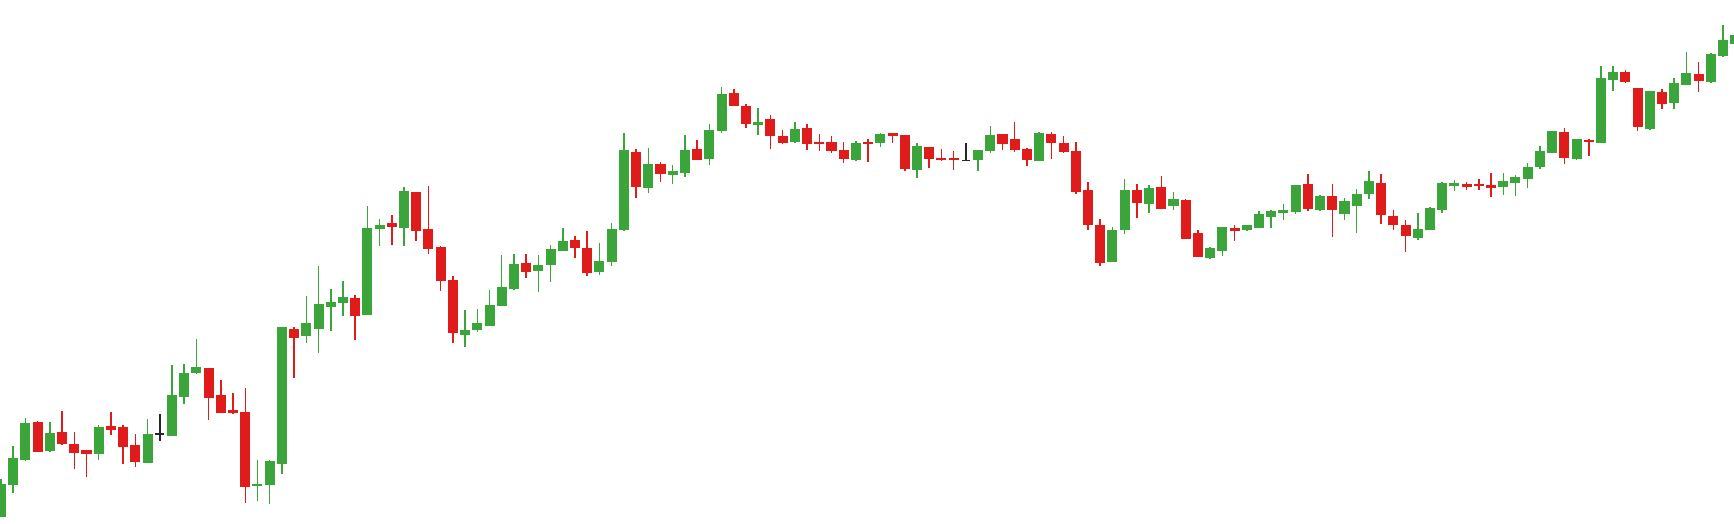buy: (127, 388, 293, 506), (340, 247, 483, 352), (1327, 178, 1437, 255)
